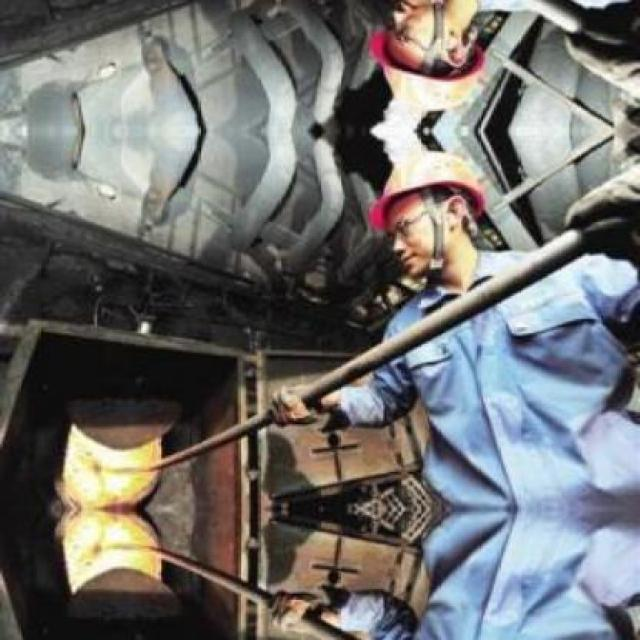helmet: (357, 143, 505, 287), (357, 0, 506, 119)
